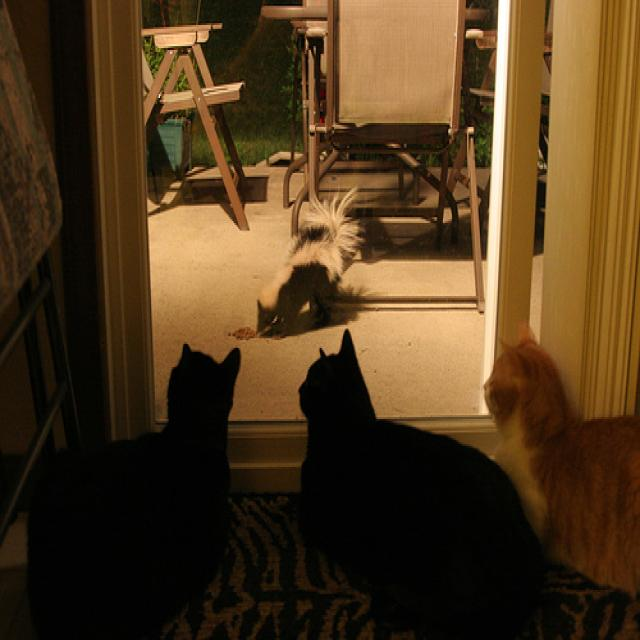Cat: (289, 327, 574, 640), (16, 331, 248, 631), (454, 323, 640, 605)
Table: (249, 0, 510, 252)
chair: (287, 0, 503, 313), (137, 7, 255, 235)
